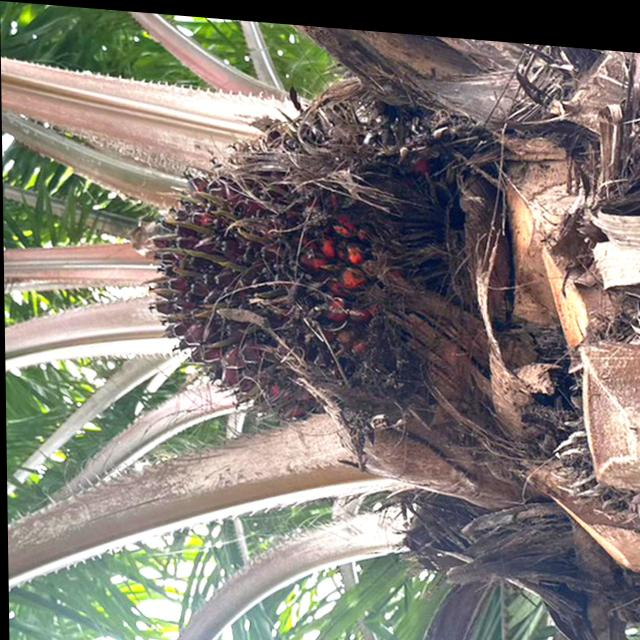ripe: (135, 95, 420, 430)
